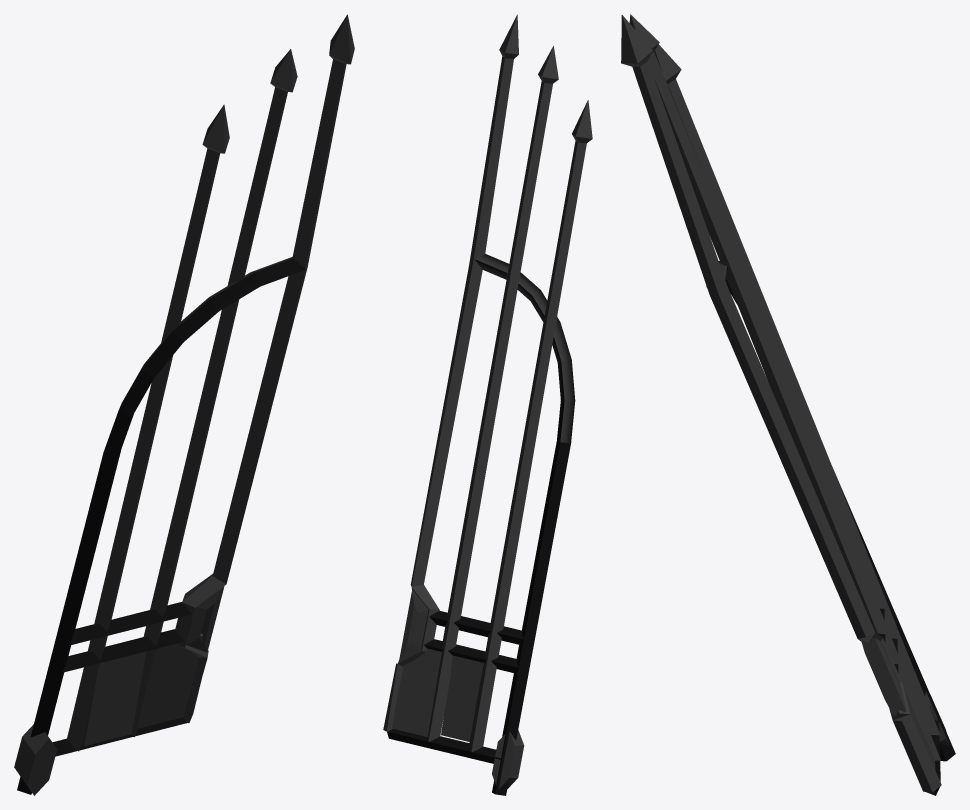
Rendered from ea_arch_gate_01a_pre_lev1.glb.
3 renders of one model, left to right at view 1: azimuth 30°, elevation 25°; view 2: azimuth 150°, elevation 25°; view 3: azimuth 270°, elevation 25°, orthographic. The views are drawn at different scales.
Visible parts, largest first — view 1: ea_arch_gate_01a_pre_lev1; view 2: ea_arch_gate_01a_pre_lev1; view 3: ea_arch_gate_01a_pre_lev1.
Part boxes in pixels (bbox=[...]): ea_arch_gate_01a_pre_lev1: bbox=[14, 14, 354, 795]; ea_arch_gate_01a_pre_lev1: bbox=[383, 14, 592, 795]; ea_arch_gate_01a_pre_lev1: bbox=[621, 14, 955, 795].
Size of the model in its own units: 1.45 by 6.82 by 2.54.
1 material, 1 textured.
